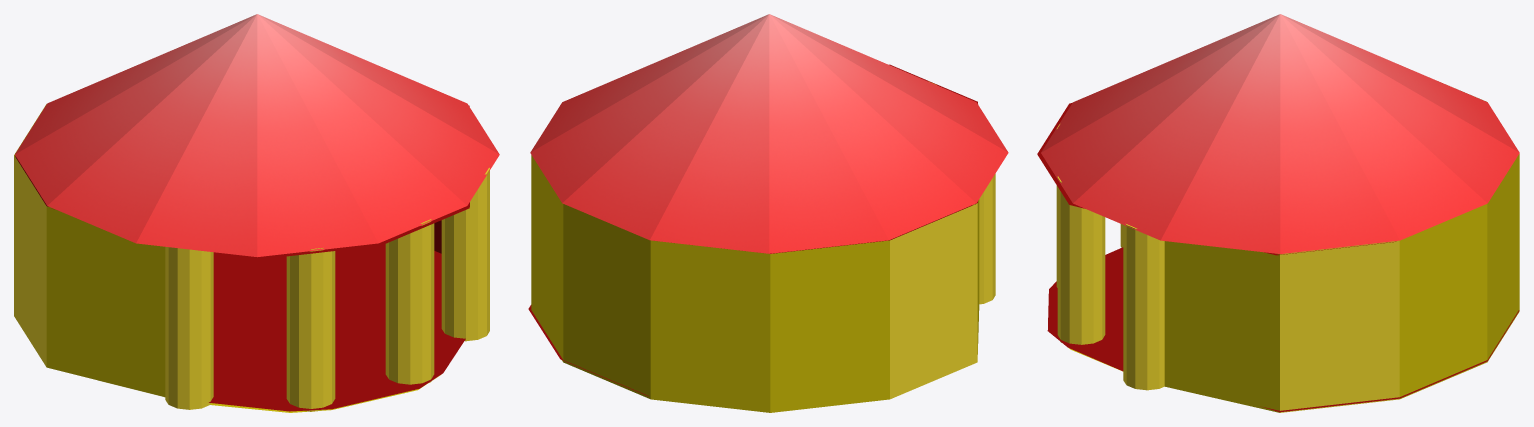
The model's file is 天堂建築.fbx.
3 views of the same model, side by side, from view 1: azimuth 30°, elevation 25°; view 2: azimuth 150°, elevation 25°; view 3: azimuth 270°, elevation 25° (orthographic).
Visible parts, largest first — view 1: 屋頂, 柱子, 牆壁內部, 地板內部, 天花板; view 2: 屋頂, 牆壁內部, 柱子; view 3: 屋頂, 牆壁內部, 柱子, 地板內部, 天花板.
Part boxes in pixels (x1,y1,x2,y2): 屋頂: (15, 14, 499, 257); 柱子: (165, 167, 489, 411); 牆壁內部: (14, 104, 441, 397); 地板內部: (209, 244, 465, 412); 天花板: (51, 105, 469, 259); 屋頂: (530, 14, 1008, 253); 牆壁內部: (531, 155, 979, 412); 柱子: (928, 81, 995, 304); 屋頂: (1041, 14, 1519, 253); 牆壁內部: (1164, 90, 1519, 412); 柱子: (1056, 124, 1164, 390); 地板內部: (1047, 247, 1519, 412); 天花板: (1037, 103, 1396, 255).
Size of the model in its own units: 1510 by 1512 by 1031.
Materials: 22 (22 with a texture image).
